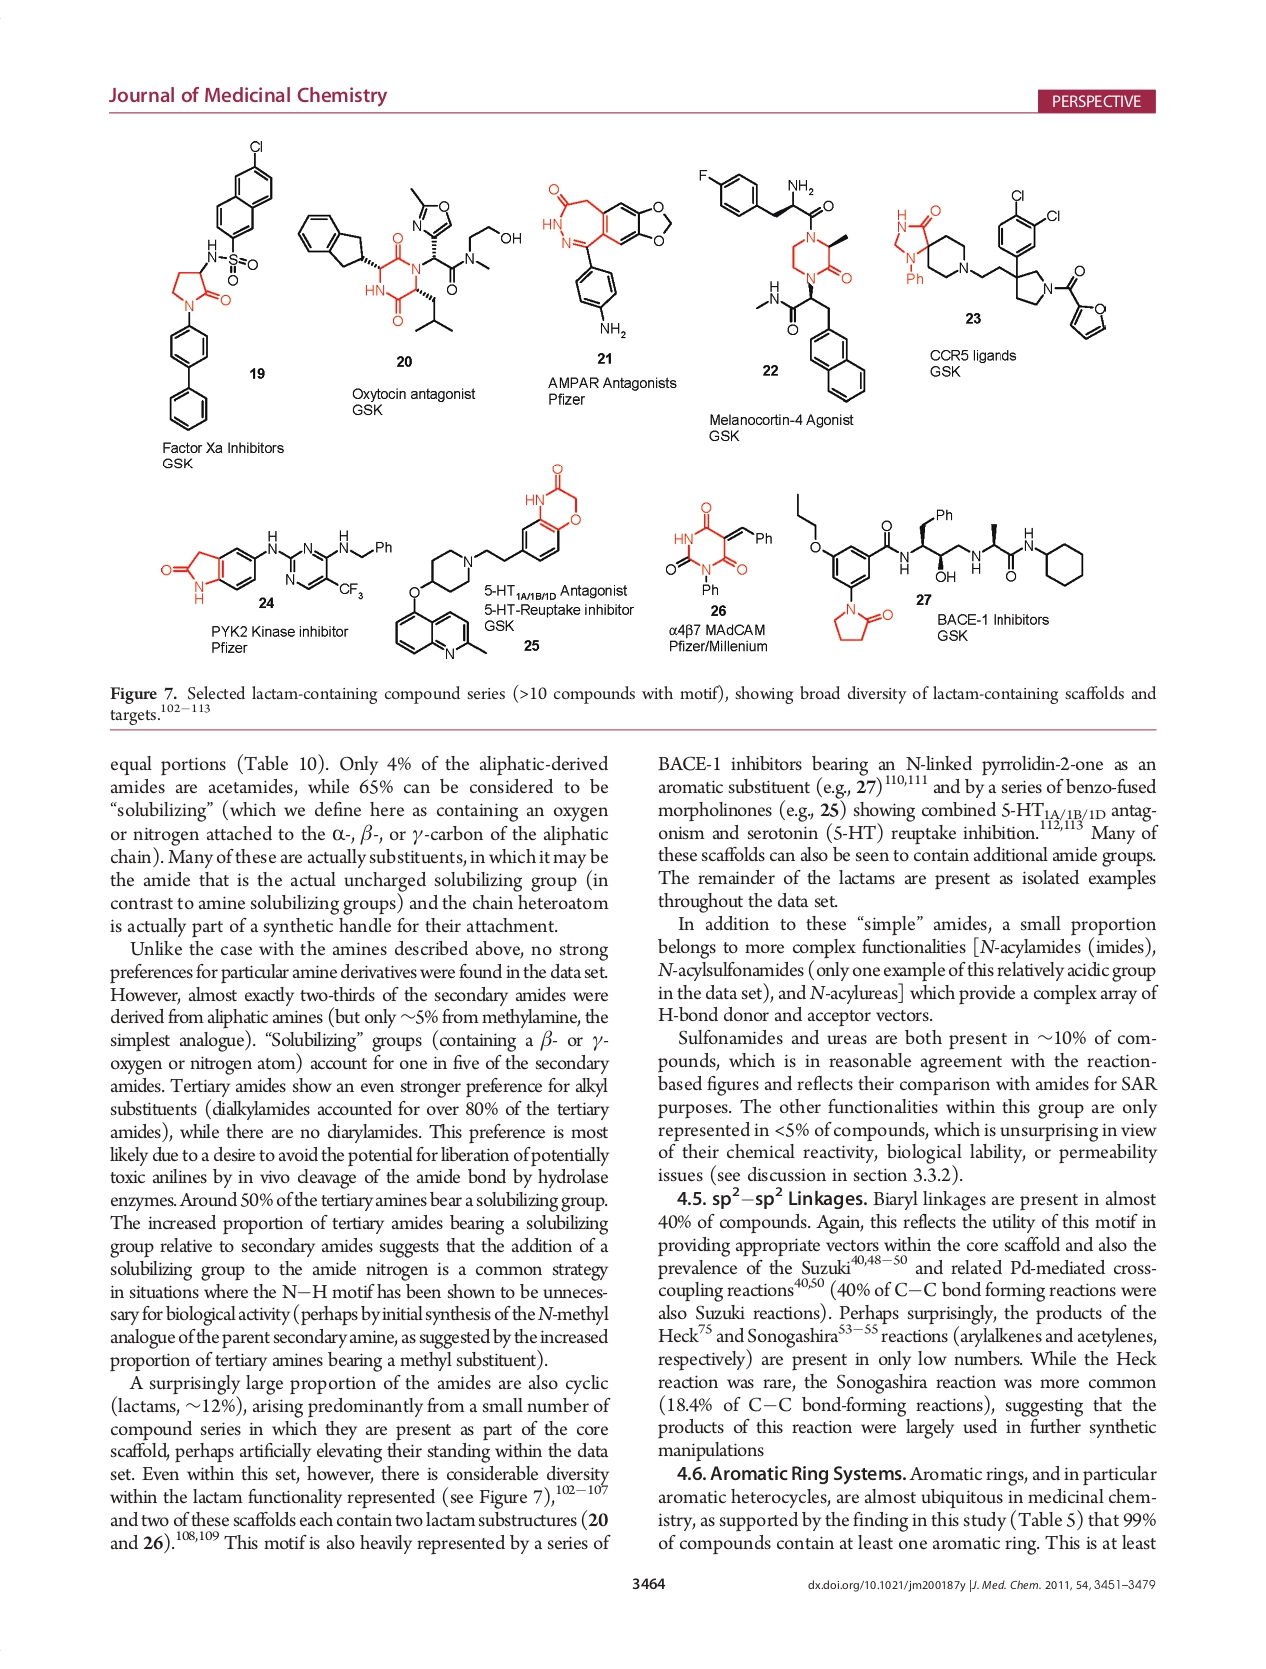exist_molecular: (791, 489, 1088, 648), (694, 166, 868, 404), (394, 461, 582, 662), (293, 184, 527, 334), (890, 186, 1110, 342), (166, 138, 275, 434), (537, 178, 676, 338), (156, 525, 394, 606), (656, 496, 774, 598)
